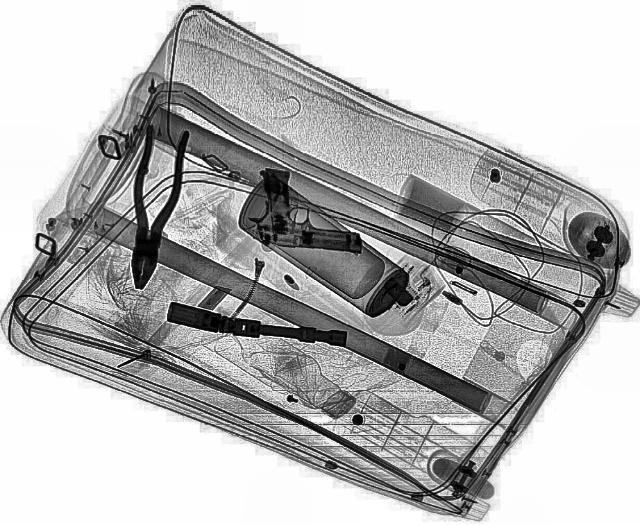Gun: (242, 167, 374, 253)
Pliers: (115, 123, 189, 291)
